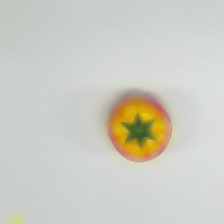tomato: (105, 74, 174, 165)
